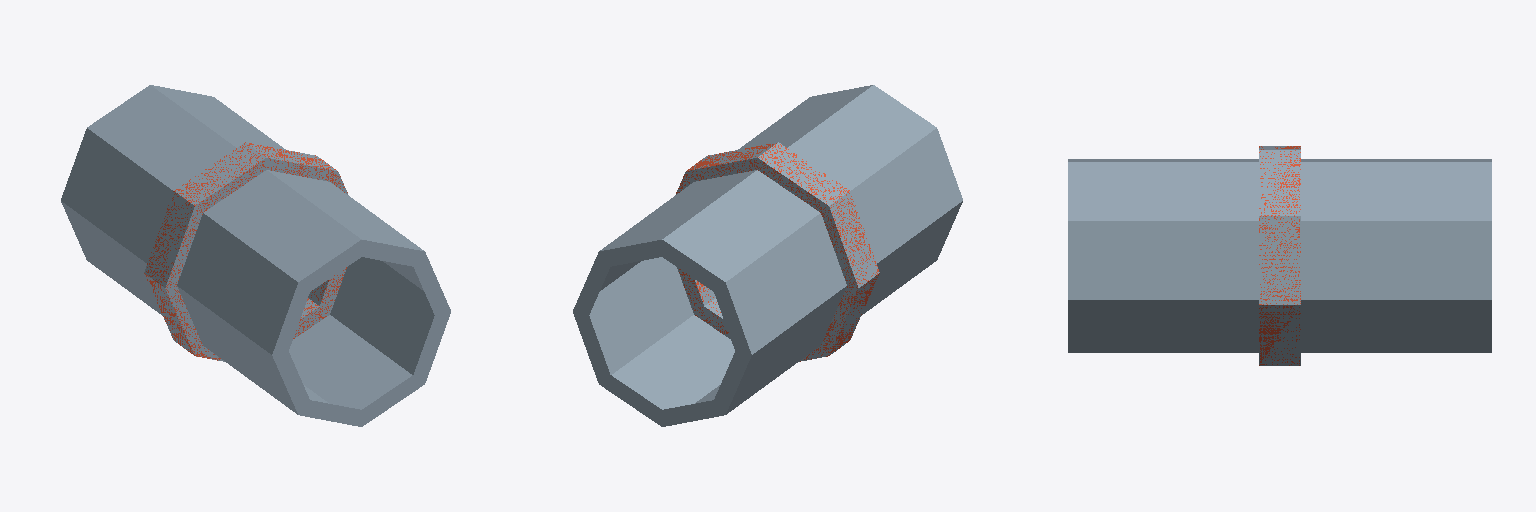
Rendered from pipeStraightLiner.obj.
3 views of the same model, side by side, from view 1: azimuth 30°, elevation 25°; view 2: azimuth 150°, elevation 25°; view 3: azimuth 270°, elevation 25° (orthographic).
Visible parts, largest first — view 1: pipeStraightLiner; view 2: pipeStraightLiner; view 3: pipeStraightLiner.
Part boxes in pixels (x1,y1,x2,y2): pipeStraightLiner: (61,85,450,426); pipeStraightLiner: (573,85,962,426); pipeStraightLiner: (1068,146,1491,365).
Bounding box in the file's own units: 5.53 × 5.53 × 10.